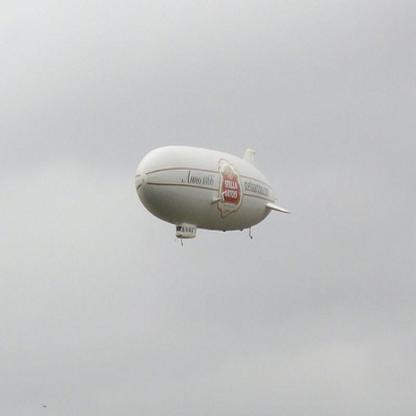Airship: (132, 141, 300, 251)
